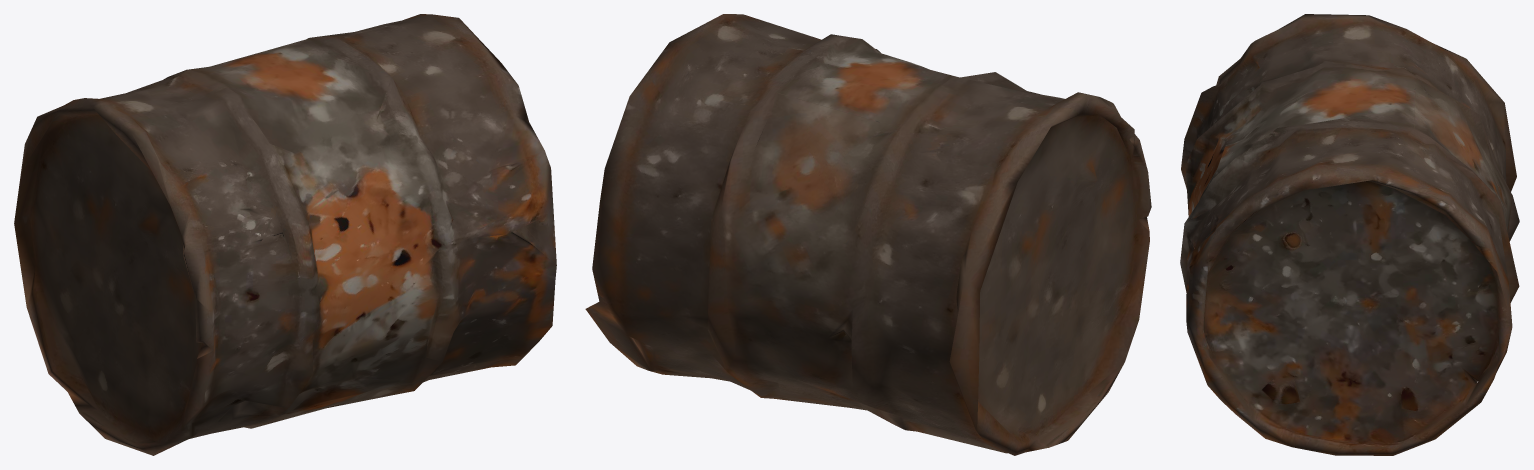
The model's file is barrel.glb.
The picture shows the model from 3 angles, left to right: view 1: azimuth 30°, elevation 25°; view 2: azimuth 150°, elevation 25°; view 3: azimuth 270°, elevation 25°; orthographic projection. The views are drawn at different scales.
Visible parts, largest first — view 1: tripo_node_7260dd49-e10a-49f6-8a10-00ebf05775b9; view 2: tripo_node_7260dd49-e10a-49f6-8a10-00ebf05775b9; view 3: tripo_node_7260dd49-e10a-49f6-8a10-00ebf05775b9.
Part boxes in pixels (bbox=[...]): tripo_node_7260dd49-e10a-49f6-8a10-00ebf05775b9: bbox=[14, 14, 556, 455]; tripo_node_7260dd49-e10a-49f6-8a10-00ebf05775b9: bbox=[585, 14, 1151, 455]; tripo_node_7260dd49-e10a-49f6-8a10-00ebf05775b9: bbox=[1180, 14, 1519, 455].
Bounding box in the file's own units: 1 × 0.7978 × 0.847.
Materials: 1 (1 with a texture image).
